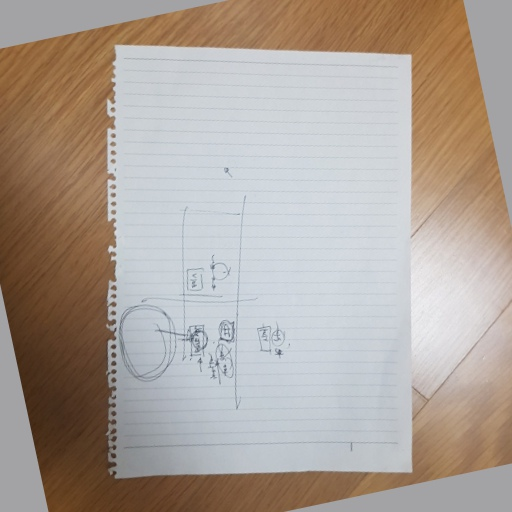Paper_2: (96, 35, 426, 485)
